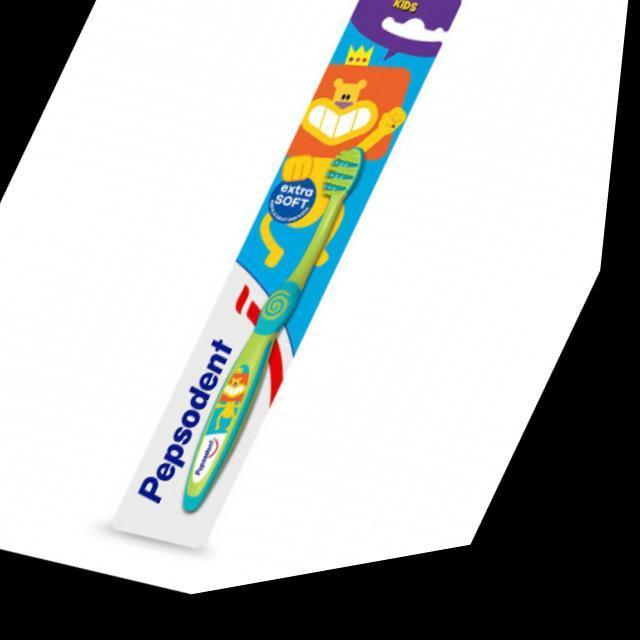toothbrush: (188, 155, 372, 532)
